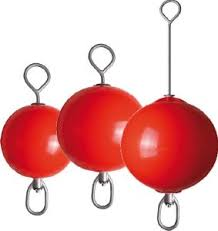buoy: (120, 96, 218, 194), (56, 84, 144, 172), (1, 104, 72, 178)
